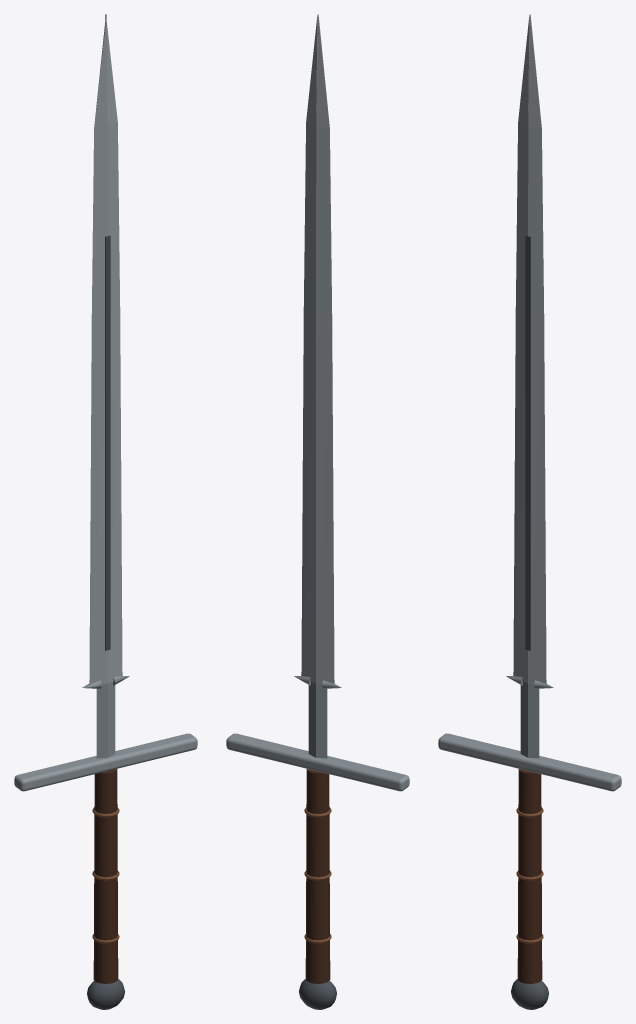
Rendered from greatsword.glb.
The picture shows the model from 3 angles, left to right: view 1: azimuth 30°, elevation 25°; view 2: azimuth 150°, elevation 25°; view 3: azimuth 330°, elevation 25°; orthographic projection.
Parts seen in each view (by area): view 1: greatsword-blade, greatsword-grip, greatsword-crossguard, greatsword-fuller, greatsword-ricasso, greatsword-pommel; view 2: greatsword-blade, greatsword-grip, greatsword-crossguard, greatsword-ricasso, greatsword-pommel; view 3: greatsword-blade, greatsword-grip, greatsword-crossguard, greatsword-fuller, greatsword-ricasso, greatsword-pommel.
Boxes of the visible parts, x1=… form: greatsword-blade: x1=89, y1=14, x2=122, y2=684; greatsword-grip: x1=93, y1=769, x2=118, y2=983; greatsword-crossguard: x1=14, y1=733, x2=197, y2=791; greatsword-fuller: x1=105, y1=235, x2=110, y2=650; greatsword-ricasso: x1=96, y1=682, x2=115, y2=758; greatsword-pommel: x1=87, y1=978, x2=124, y2=1009; greatsword-blade: x1=301, y1=14, x2=334, y2=684; greatsword-grip: x1=305, y1=769, x2=330, y2=983; greatsword-crossguard: x1=226, y1=733, x2=409, y2=791; greatsword-ricasso: x1=308, y1=682, x2=327, y2=758; greatsword-pommel: x1=299, y1=978, x2=336, y2=1009; greatsword-blade: x1=513, y1=14, x2=546, y2=684; greatsword-grip: x1=517, y1=769, x2=542, y2=983; greatsword-crossguard: x1=438, y1=733, x2=621, y2=791; greatsword-fuller: x1=525, y1=235, x2=530, y2=650; greatsword-ricasso: x1=520, y1=682, x2=539, y2=758; greatsword-pommel: x1=511, y1=978, x2=548, y2=1009.
Bounding box in the file's own units: 0.2333 × 1.25 × 0.035.
